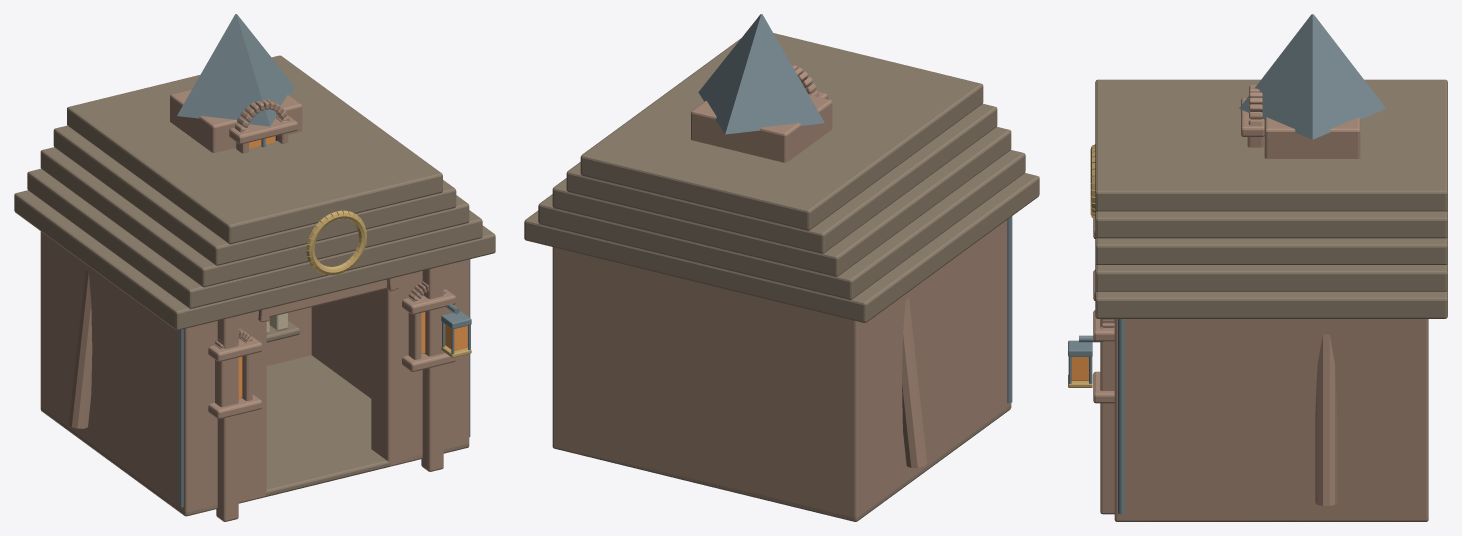
File: a2_service_3.glb
3 renders of one model, left to right at view 1: azimuth 30°, elevation 25°; view 2: azimuth 150°, elevation 25°; view 3: azimuth 270°, elevation 25°, orthographic. The views are drawn at different scales.
Visible parts, largest first — view 1: Roof.003, Side.003, Front.003, Body.003; view 2: Roof.003, Body.003, Side.003, Front.003; view 3: Roof.003, Side.003, Body.003, Front.003.
Boxes of the visible parts, <box> form: Roof.003: <box>14,14,495,330</box>; Side.003: <box>41,233,470,515</box>; Front.003: <box>168,260,471,521</box>; Body.003: <box>40,231,469,516</box>; Roof.003: <box>524,14,1039,322</box>; Body.003: <box>552,247,1011,521</box>; Side.003: <box>553,216,1012,521</box>; Front.003: <box>994,222,1010,419</box>; Roof.003: <box>1090,14,1447,318</box>; Side.003: <box>1114,319,1426,520</box>; Body.003: <box>1115,319,1428,521</box>; Front.003: <box>1068,218,1150,521</box>.
Bounding box in the file's own units: 2.92 × 3.58 × 2.78.
